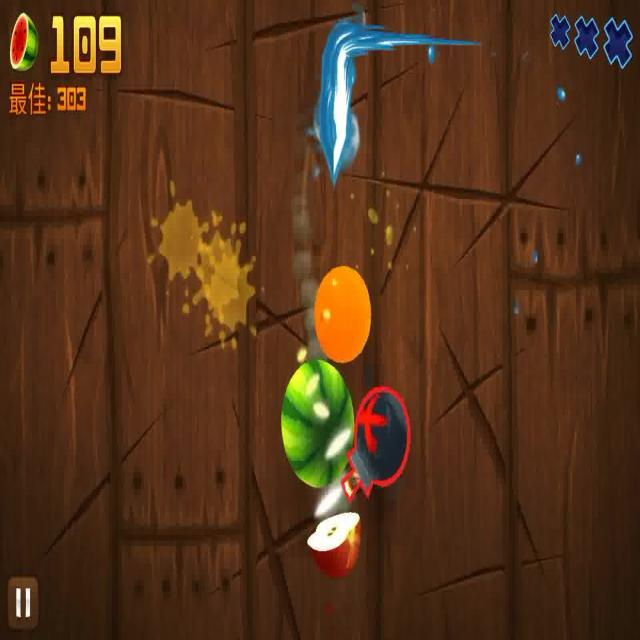bomb: (342, 383, 410, 500)
fruit: (280, 363, 354, 487), (315, 268, 370, 362), (307, 510, 362, 579)
